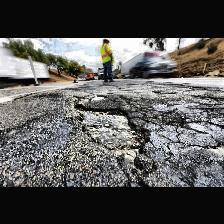pothole: (74, 102, 152, 152), (116, 154, 156, 186), (78, 94, 106, 100)
